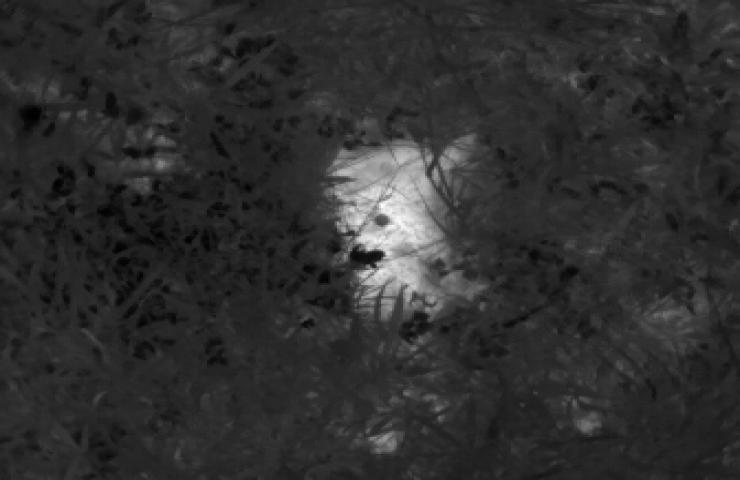landmines: (309, 116, 506, 331)
